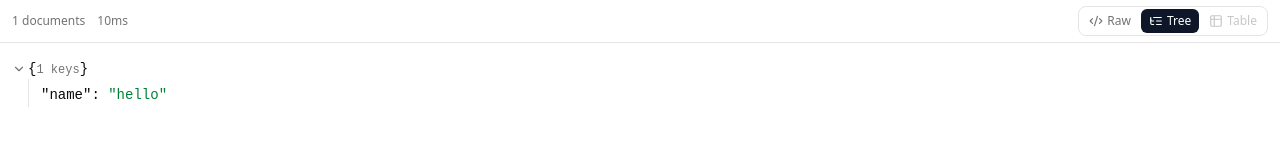
Test: ResultPanel › switches to raw view on button click
The width and height of the screenshot is (1280, 160).
What coordinates should you click on to do the following:
click the button "Raw"
I would click on:
 (1110, 21)
Its box is [1081, 9, 1139, 33].
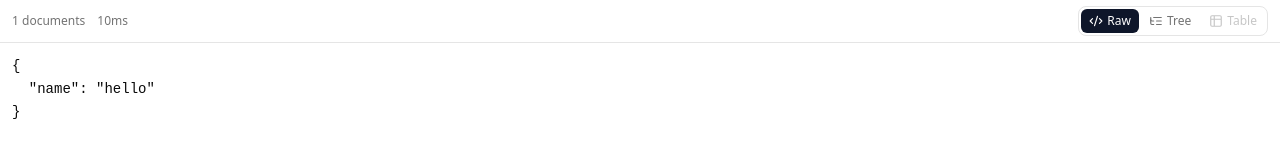
Expected: the text "{ \"name\": \"hello\" }" is shown, [12, 58, 155, 120]
